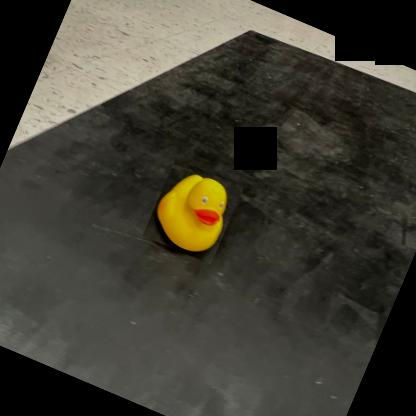duck: (142, 158, 244, 264)
